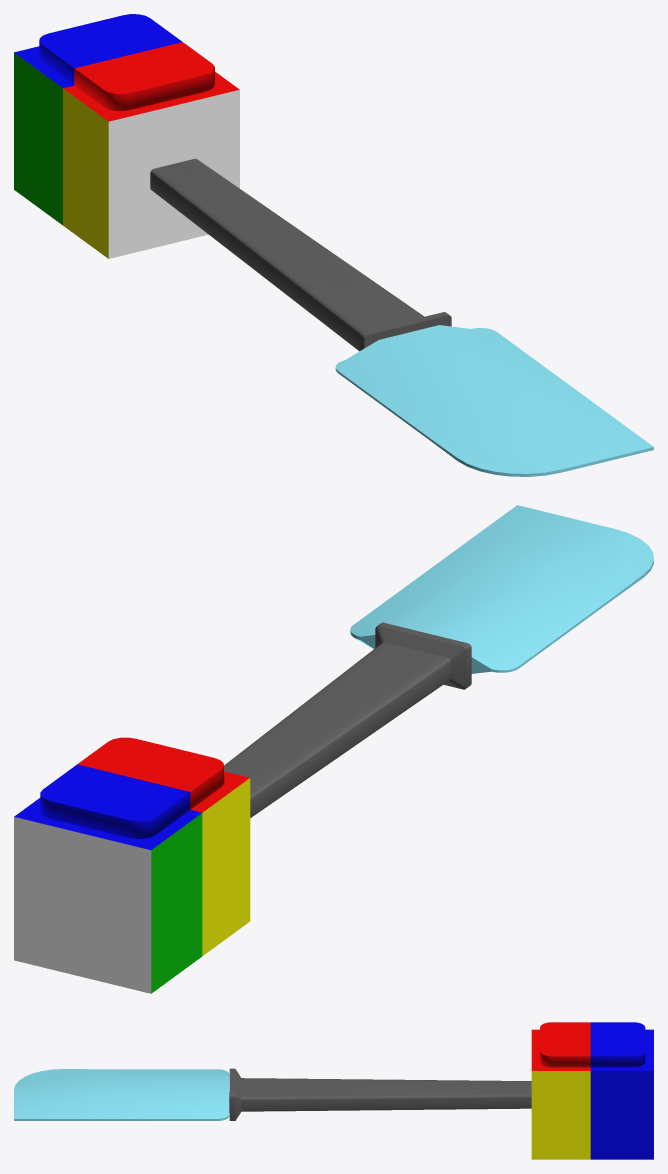
Rendered from spatulamintgray.obj.
3 renders of one model, top to bottom at view 1: azimuth 30°, elevation 25°; view 2: azimuth 150°, elevation 25°; view 3: azimuth 270°, elevation 25°, orthographic. The views are drawn at different scales.
Parts seen in each view (by area): view 1: Spatula_Plane.013; view 2: Spatula_Plane.013; view 3: Spatula_Plane.013.
Boxes of the visible parts, x1,y1,x2,y2 form: Spatula_Plane.013: (14,14,653,476); Spatula_Plane.013: (14,505,653,993); Spatula_Plane.013: (14,1022,653,1159).
Size of the model in its own units: 0.0484 by 0.045 by 0.2614.
